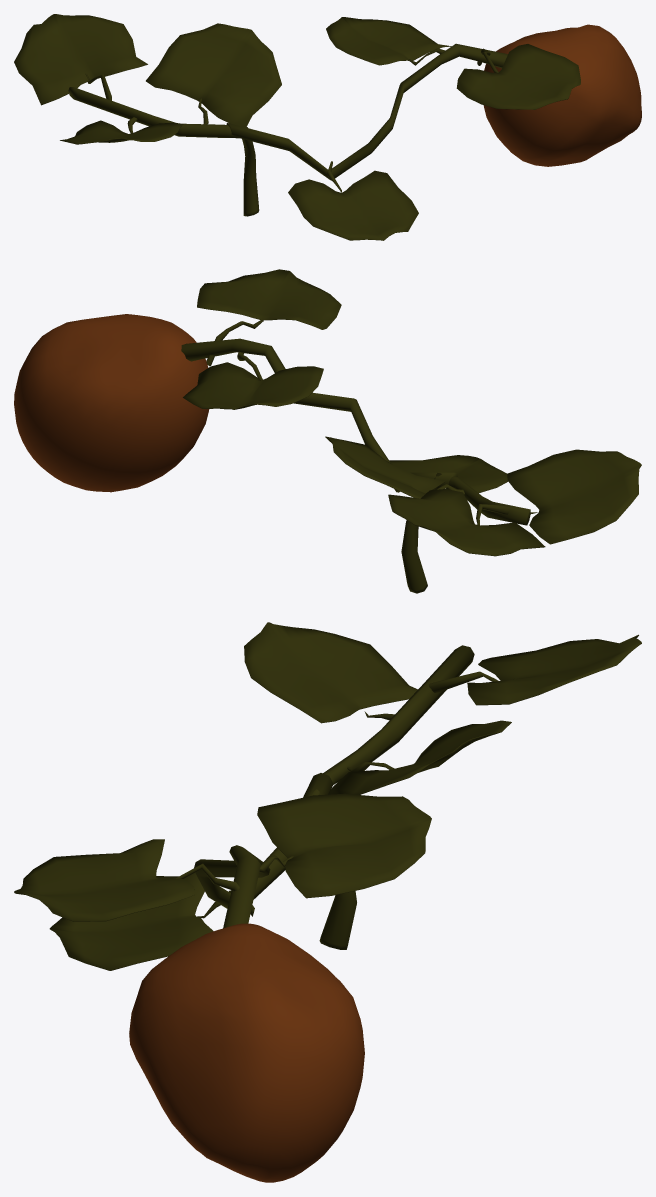
File: MelaoPodre.fbx
3 views of the same model, one above another, from view 1: azimuth 30°, elevation 25°; view 2: azimuth 150°, elevation 25°; view 3: azimuth 270°, elevation 25° (orthographic). The views are drawn at different scales.
Visible parts, largest first — view 1: MelaoPodre; view 2: MelaoPodre; view 3: MelaoPodre.
Part boxes in pixels (box(x1,y1,x2,y2)): MelaoPodre: box(14, 14, 641, 240); MelaoPodre: box(14, 269, 641, 593); MelaoPodre: box(14, 622, 641, 1182).
Size of the model in its own units: 73.1 by 19.89 by 47.87.
